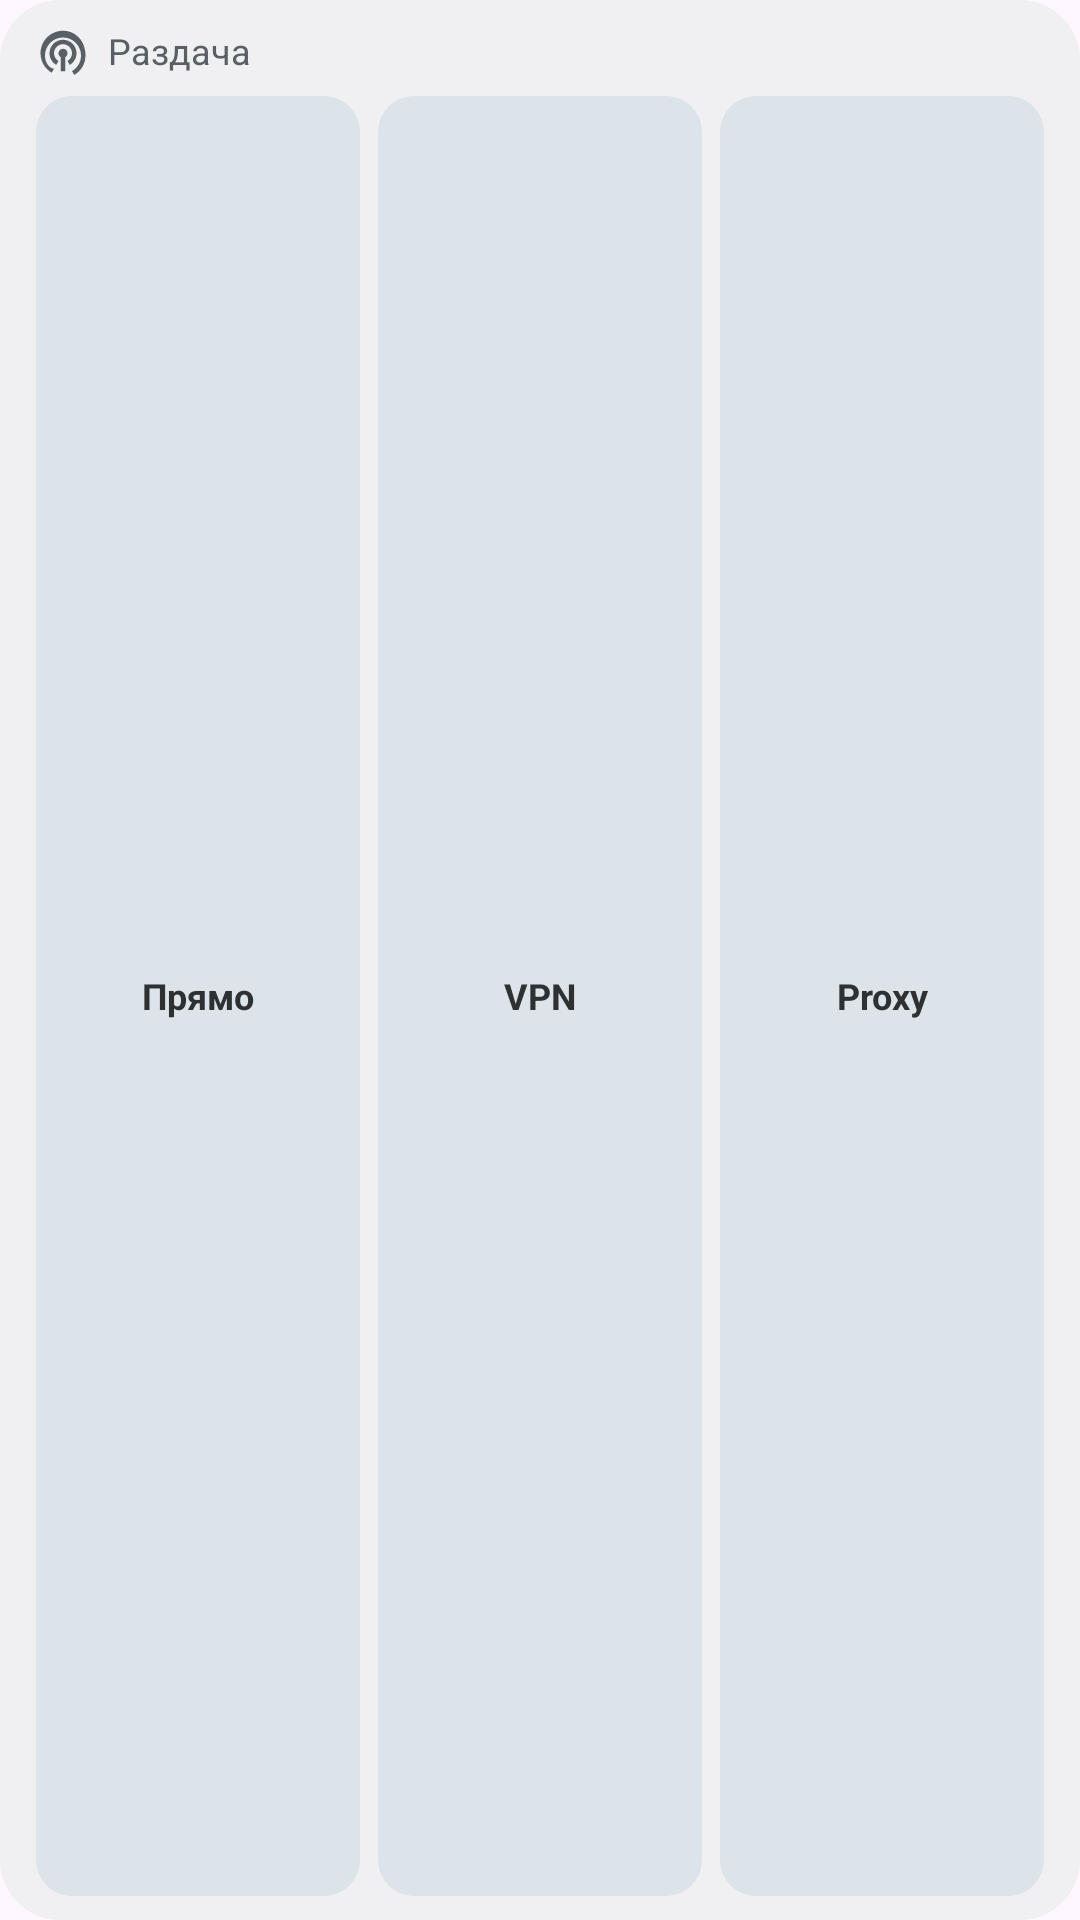

Icons on this 1080px x 1920px Android screen, each with the point to tap as (x=x, y=y):
hotspot: (x=63, y=52)
